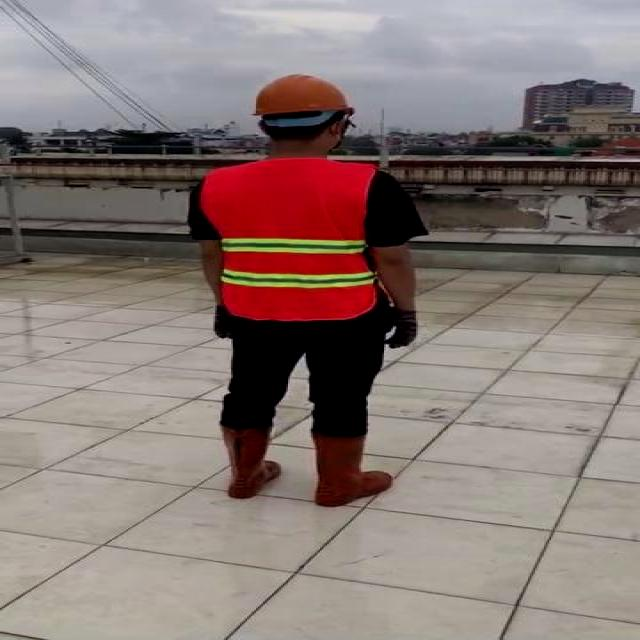boots: (306, 430, 391, 510), (212, 423, 286, 499)
hand_glove: (377, 304, 419, 351)
head_helmet: (252, 70, 358, 118)
person: (184, 69, 435, 512)
vest: (203, 157, 382, 319)
